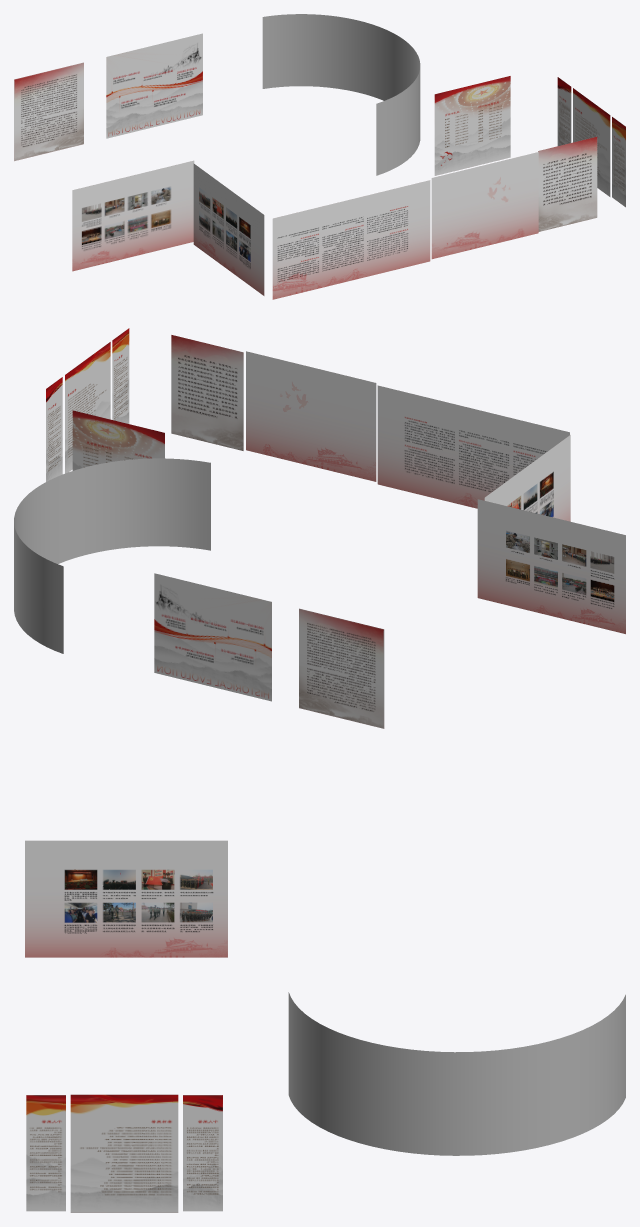
3 renders of one model, top to bottom at view 1: azimuth 30°, elevation 25°; view 2: azimuth 150°, elevation 25°; view 3: azimuth 270°, elevation 25°, orthographic. The views are drawn at different scales.
Visible parts, largest first — view 1: 12中队_发展历程, 12中队_建设成就, 12中队_官兵风采, 12中队_重大任务, 12中队_历史沿革, 12中队_历任主官, 12中队_军营文化, 12中队_前言, 12中队_未来寄语, 12中队_历史荣誉中, 12中队_历史荣誉右, 12中队_历史荣誉左; view 2: 12中队_发展历程, 12中队_官兵风采, 12中队_建设成就, 12中队_重大任务, 12中队_历史沿革, 12中队_前言, 12中队_未来寄语, 12中队_军营文化, 12中队_历任主官, 12中队_历史荣誉中, 12中队_历史荣誉左, 12中队_历史荣誉右; view 3: 12中队_发展历程, 12中队_军营文化, 12中队_历史荣誉中, 12中队_历史荣誉右, 12中队_历史荣誉左.
Boxes of the visible parts, box(x1,y1,x2,y2) form: 12中队_发展历程: box(262, 14, 420, 175); 12中队_建设成就: box(272, 180, 430, 299); 12中队_官兵风采: box(72, 160, 194, 271); 12中队_重大任务: box(431, 152, 538, 259); 12中队_历史沿革: box(106, 33, 202, 138); 12中队_历任主官: box(434, 76, 510, 175); 12中队_军营文化: box(193, 163, 264, 295); 12中队_前言: box(14, 62, 83, 161); 12中队_未来寄语: box(538, 136, 597, 231); 12中队_历史荣誉中: box(573, 88, 610, 196); 12中队_历史荣誉右: box(612, 117, 625, 207); 12中队_历史荣誉左: box(557, 77, 571, 145); 12中队_发展历程: box(14, 458, 210, 653); 12中队_官兵风采: box(477, 499, 625, 634); 12中队_建设成就: box(377, 385, 569, 508); 12中队_重大任务: box(246, 351, 376, 481); 12中队_历史沿革: box(154, 573, 271, 701); 12中队_前言: box(299, 608, 384, 728); 12中队_未来寄语: box(171, 335, 243, 450); 12中队_军营文化: box(484, 435, 570, 521); 12中队_历任主官: box(72, 410, 164, 470); 12中队_历史荣誉中: box(65, 342, 110, 473); 12中队_历史荣誉左: box(46, 377, 62, 481); 12中队_历史荣誉右: box(112, 328, 129, 423); 12中队_发展历程: box(288, 992, 625, 1155); 12中队_军营文化: box(25, 840, 227, 957); 12中队_历史荣誉中: box(70, 1094, 178, 1212); 12中队_历史荣誉右: box(26, 1095, 65, 1211); 12中队_历史荣誉左: box(183, 1095, 222, 1211).
Bounding box in the file's own units: 1029 × 170 × 789.
